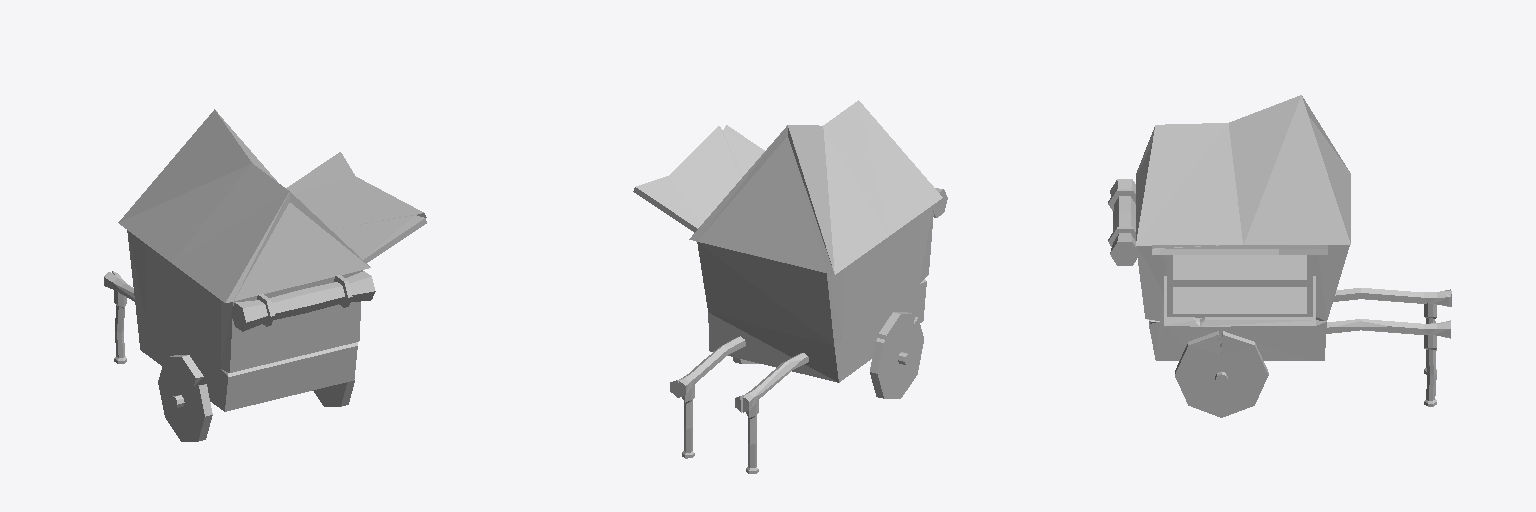
File: cart01.obj
The picture shows the model from 3 angles: view 1: azimuth 30°, elevation 25°; view 2: azimuth 150°, elevation 25°; view 3: azimuth 270°, elevation 25°; orthographic projection.
Visible parts, largest first — view 1: cart01; view 2: cart01; view 3: cart01.
Boxes of the visible parts, x1=… form: cart01: x1=104, y1=109, x2=426, y2=441; cart01: x1=633, y1=100, x2=947, y2=473; cart01: x1=1108, y1=95, x2=1451, y2=417.
Bounding box in the file's own units: 0.0342 × 0.0431 × 0.0459.